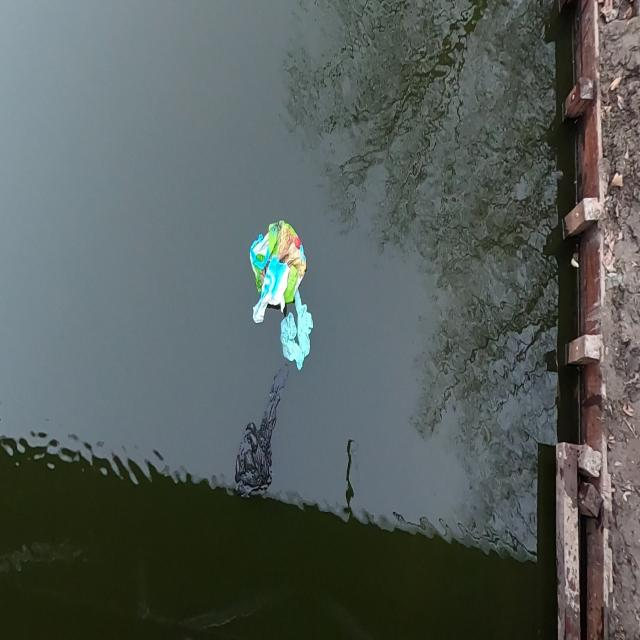Sac plastique: (237, 209, 315, 335), (272, 278, 324, 387)
